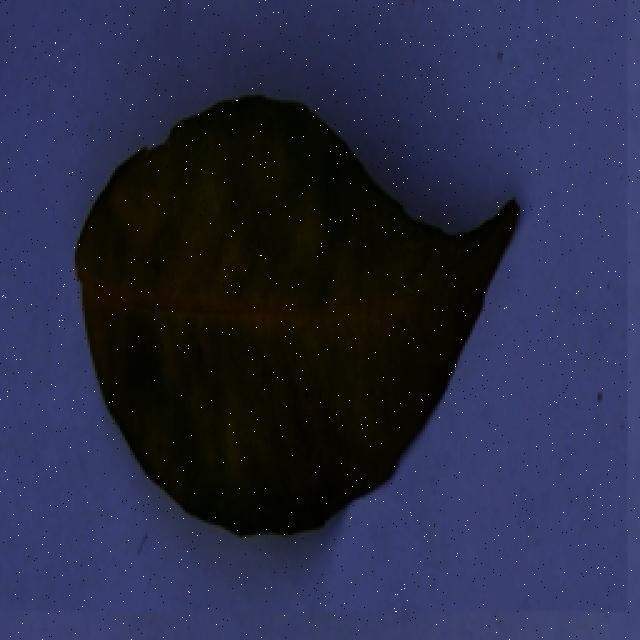greening: (68, 86, 552, 546)
